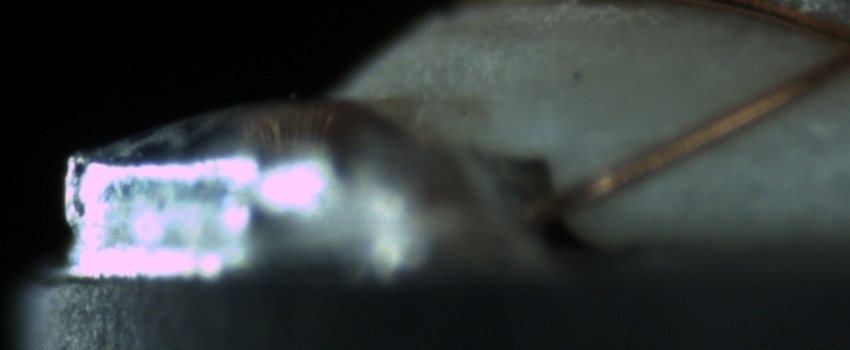CL: (807, 9, 850, 83)
